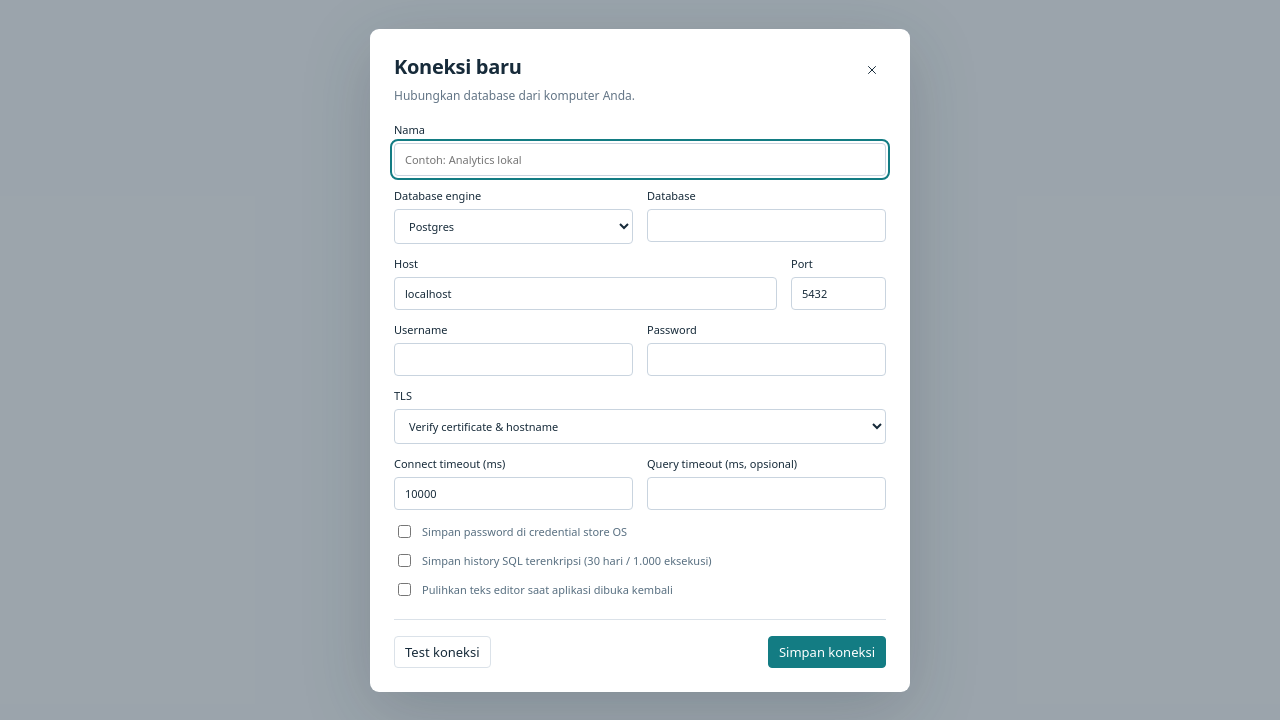
Test: connection privacy defaults › reports secret-store failures without closing form or changing privacy
Click the button "Test koneksi" at (442, 652), box x1=394 y1=636 x2=491 y2=668
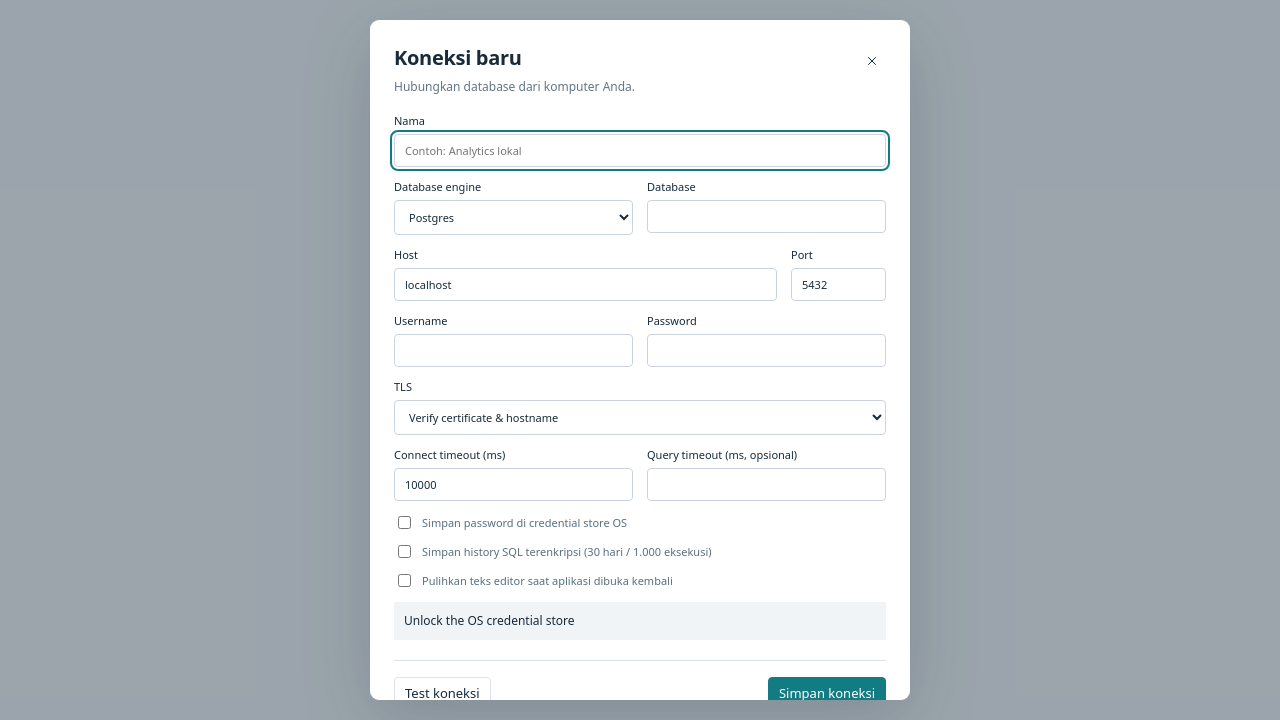
Expected: the message reads "Unlock the OS credential store", x1=404 y1=612 x2=575 y2=629
